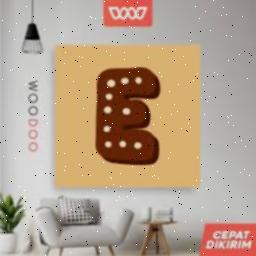e: (88, 64, 172, 170)
